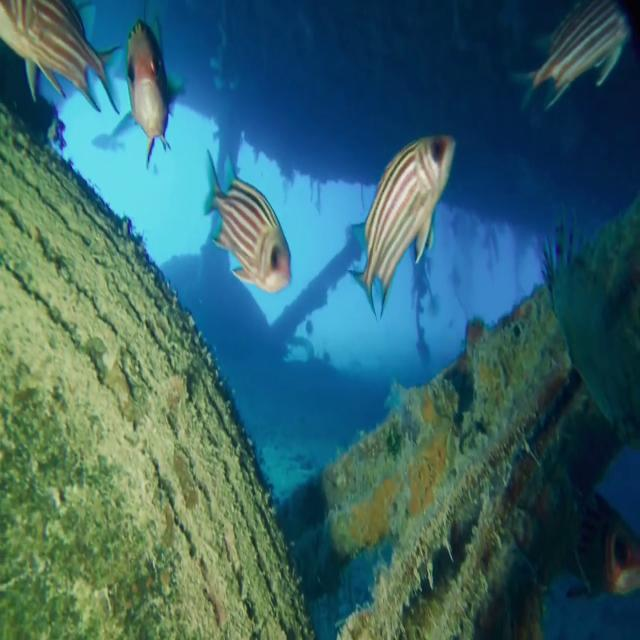Asker Baligi: (346, 130, 456, 322), (202, 147, 292, 295)
